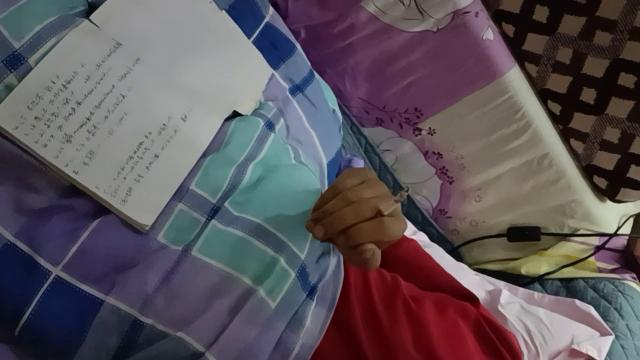Smoking: (371, 187, 411, 223)
